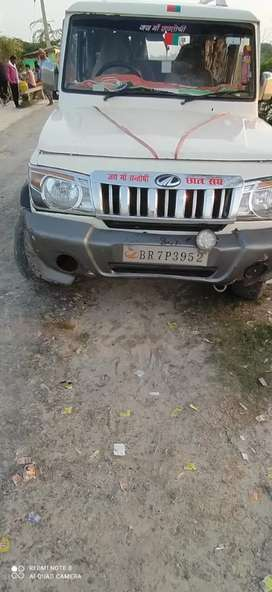BR7P3952: (122, 244, 207, 265)
